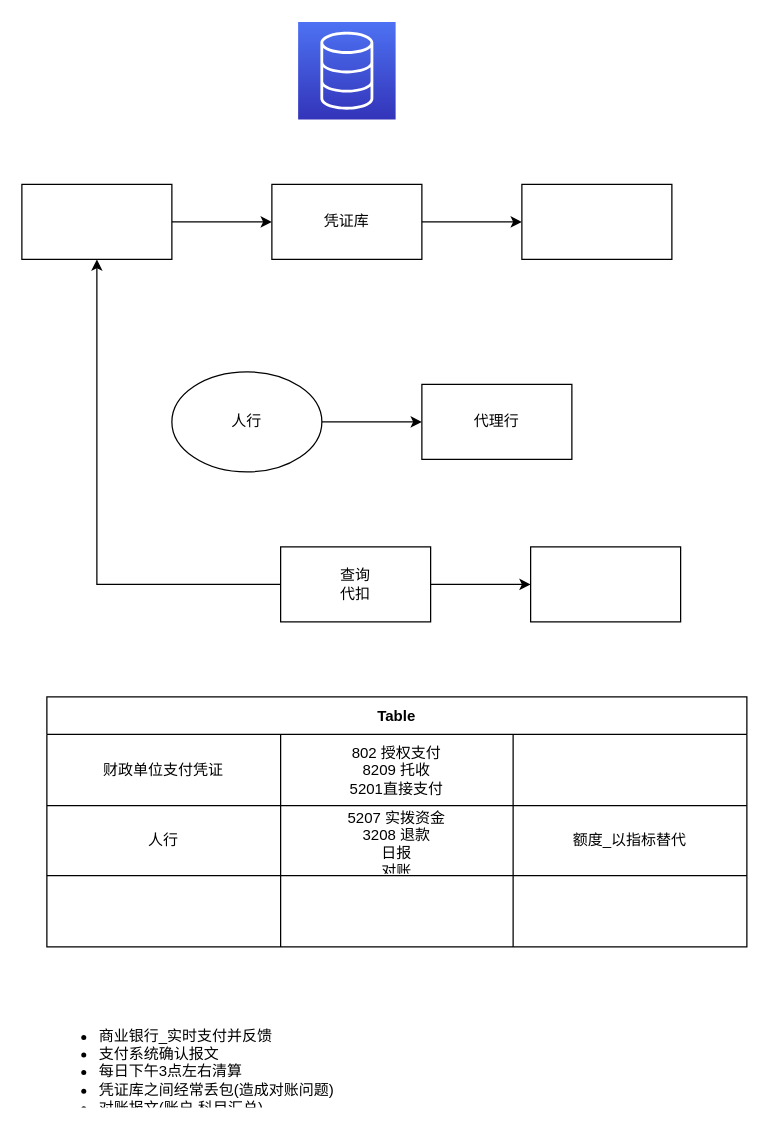
This 769x1138 diagram has some shape labels left out. Here are the shapes that lost their labels. From the top down, the centre of each, then its label:
pixel 96 221: 支付模块
pixel 596 221: 凭证MQ
pixel 605 584: 非凭证MQ
